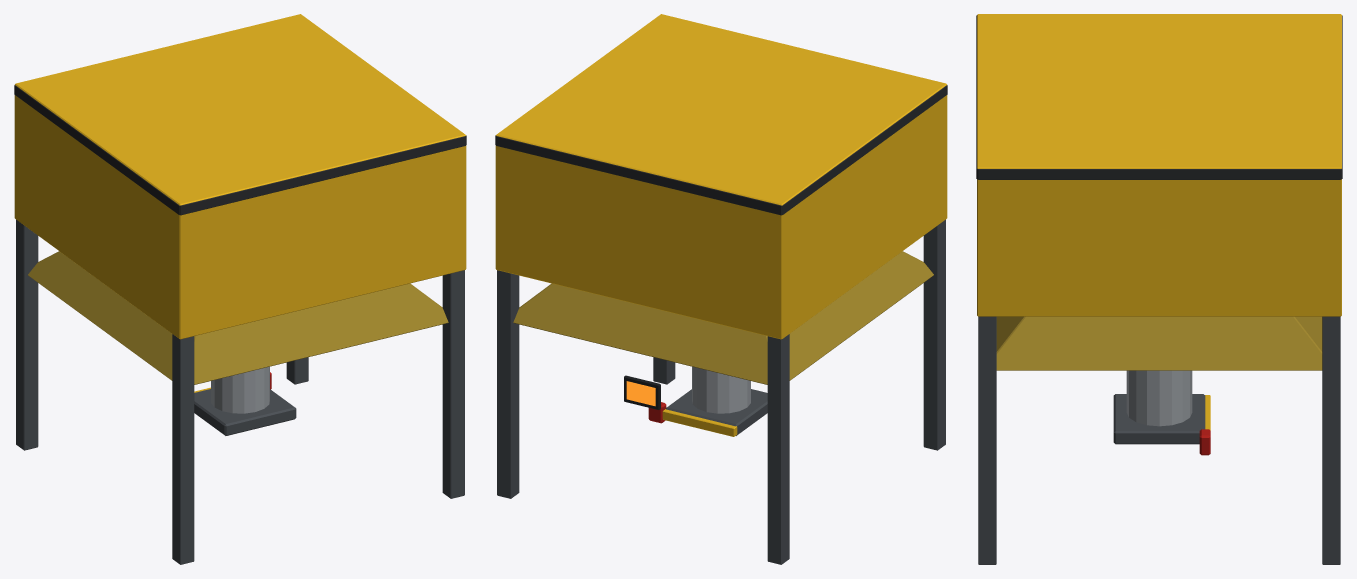
The model's file is hold_hopper.glb.
The picture shows the model from 3 angles, left to right: view 1: azimuth 30°, elevation 25°; view 2: azimuth 150°, elevation 25°; view 3: azimuth 270°, elevation 25°; orthographic projection. The views are drawn at different scales.
Parts seen in each view (by area): view 1: hold_hopper; view 2: hold_hopper; view 3: hold_hopper.
Part boxes in pixels (<box>): hold_hopper: <box>14,14,466,564</box>; hold_hopper: <box>495,14,947,564</box>; hold_hopper: <box>976,14,1342,564</box>.
Bounding box in the file's own units: 2 × 2.4 × 2.
